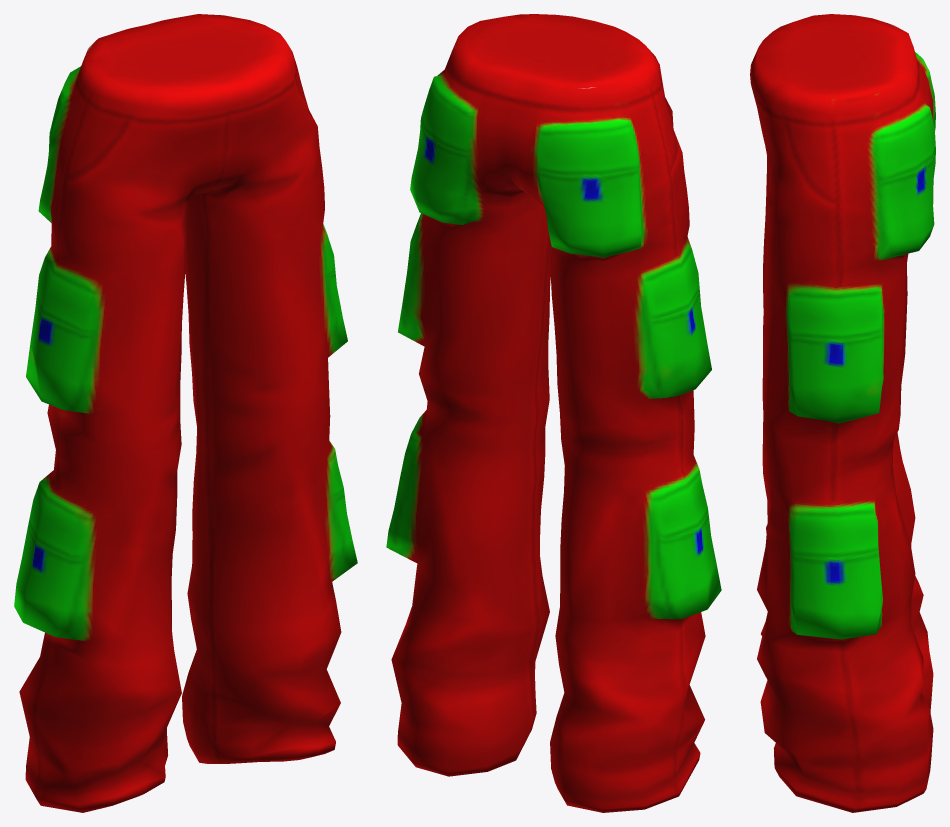
The model's file is Bottom_CargoPants.obj.
3 views of the same model, side by side, from view 1: azimuth 30°, elevation 25°; view 2: azimuth 150°, elevation 25°; view 3: azimuth 270°, elevation 25° (orthographic). The views are drawn at different scales.
Visible parts, largest first — view 1: Bottom_CargoPants_0; view 2: Bottom_CargoPants_0; view 3: Bottom_CargoPants_0.
Boxes of the visible parts, x1,y1,x2,y2 form: Bottom_CargoPants_0: (14, 14, 357, 812); Bottom_CargoPants_0: (386, 14, 721, 812); Bottom_CargoPants_0: (750, 14, 935, 812).
Size of the model in its own units: 0.47 by 1.02 by 0.2472.
1 material, 1 textured.
